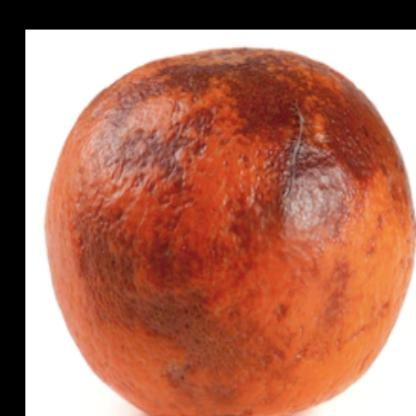rotten: (48, 51, 416, 416)
